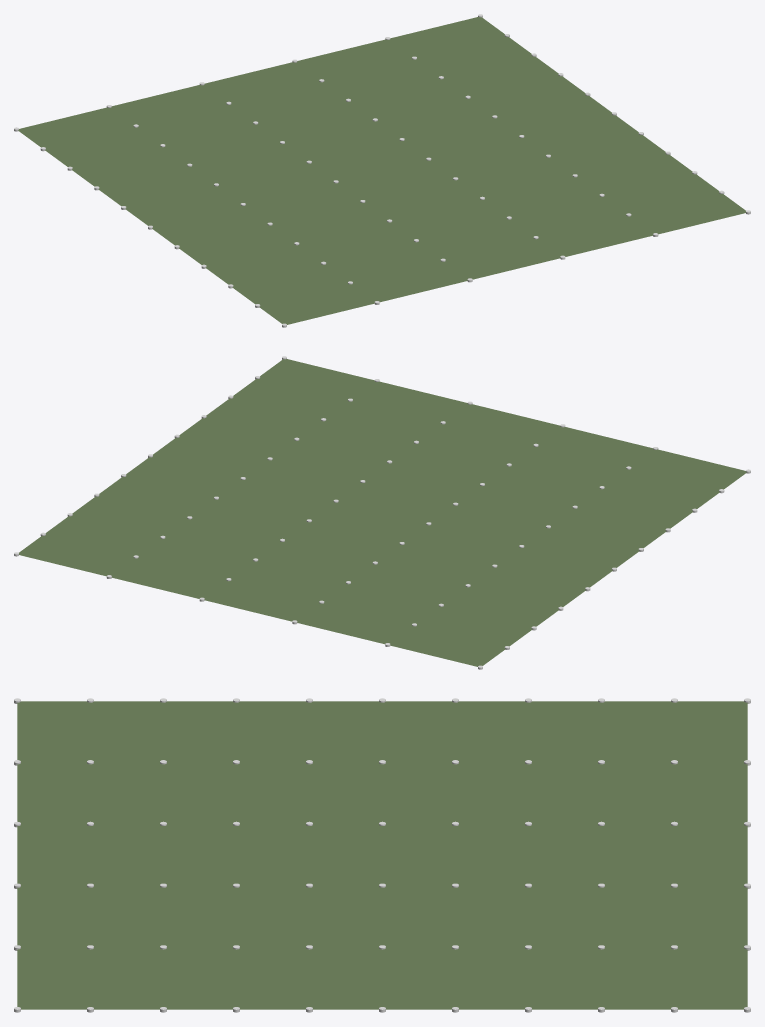
File: Floor.fbx
The picture shows the model from 3 angles, top to bottom: view 1: azimuth 30°, elevation 25°; view 2: azimuth 150°, elevation 25°; view 3: azimuth 270°, elevation 25°; orthographic projection. The views are drawn at different scales.
Visible parts, largest first — view 1: pPlane2; view 2: pPlane2; view 3: pPlane2.
Boxes of the visible parts, x1=… form: pPlane2: x1=14, y1=14, x2=750, y2=327; pPlane2: x1=14, y1=356, x2=750, y2=669; pPlane2: x1=14, y1=698, x2=750, y2=1012.
Bounding box in the file's own units: 50.48 × 0.208 × 50.48.
